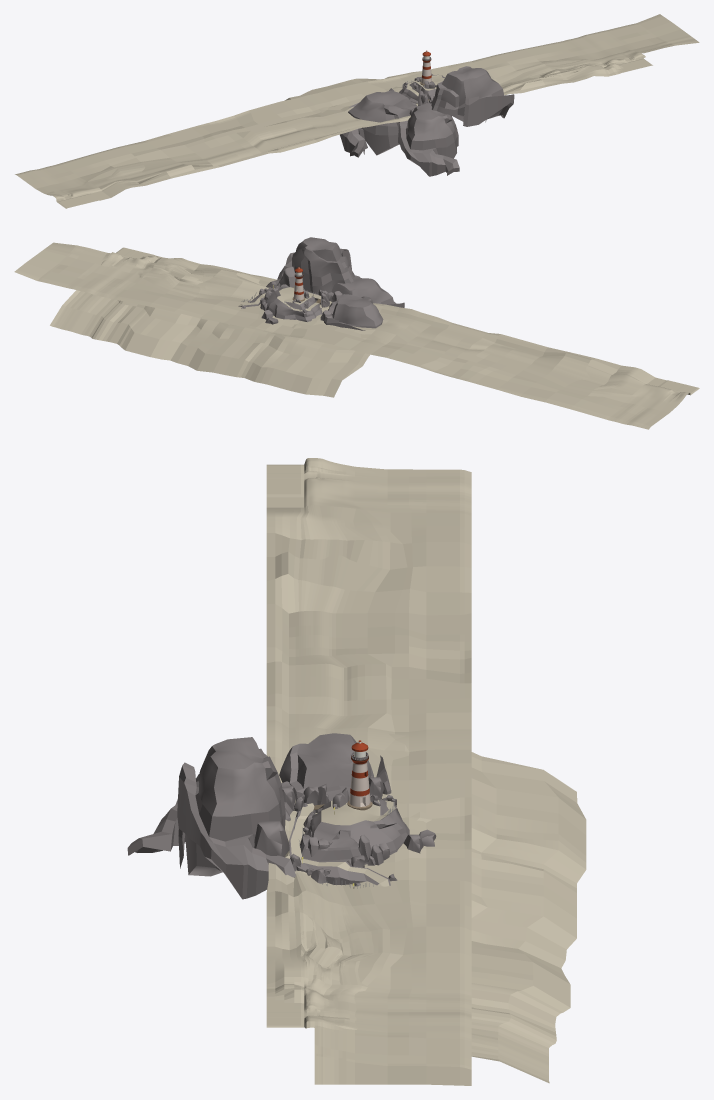
Rendered from ground and new rocks.fbx.
The picture shows the model from 3 angles, top to bottom: view 1: azimuth 30°, elevation 25°; view 2: azimuth 150°, elevation 25°; view 3: azimuth 270°, elevation 25°; orthographic projection. The views are drawn at different scales.
Visible parts, largest first — view 1: ground1, polySurface19, polySurface14, polySurface12, ground, polySurface21; view 2: ground1, ground, polySurface19, polySurface21, polySurface12, polySurface14; view 3: ground1, ground, polySurface19, polySurface21, polySurface12, polySurface14, lighthouse2, polySurface5.
Part boxes in pixels (x1,y1,x2,y2): ground1: [15, 14, 699, 208]; polySurface19: [431, 66, 514, 126]; polySurface14: [398, 103, 459, 176]; polySurface12: [340, 90, 417, 157]; ground: [285, 50, 645, 125]; polySurface21: [399, 74, 444, 103]; ground1: [14, 242, 699, 429]; ground: [50, 254, 407, 397]; polySurface19: [266, 237, 354, 293]; polySurface21: [238, 284, 322, 321]; polySurface12: [324, 294, 383, 330]; polySurface14: [328, 275, 404, 307]; ground1: [266, 458, 471, 1085]; ground: [298, 728, 586, 1083]; polySurface19: [177, 737, 295, 899]; polySurface21: [289, 798, 409, 886]; polySurface12: [279, 733, 391, 801]; polySurface14: [127, 774, 294, 876]; lighthouse2: [347, 740, 372, 810]; polySurface5: [254, 821, 289, 857].
Bounding box in the file's own units: 546 × 65.12 × 171.
